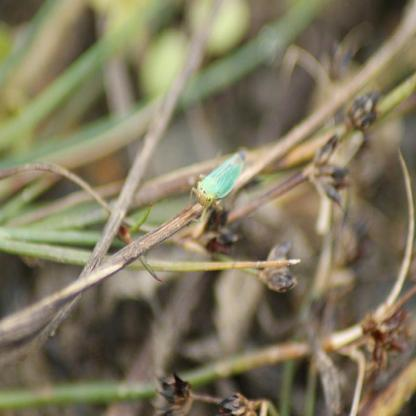Green-Leafhopper: (189, 143, 243, 233)
